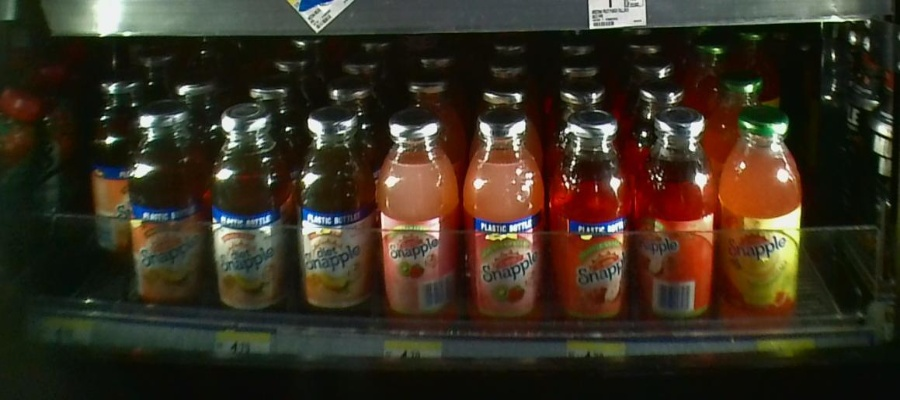bottle: (720, 100, 803, 337), (462, 99, 548, 326), (212, 96, 297, 316), (550, 106, 634, 328), (638, 104, 719, 330), (376, 107, 460, 324), (297, 103, 374, 316), (133, 101, 207, 315), (84, 71, 130, 257)
